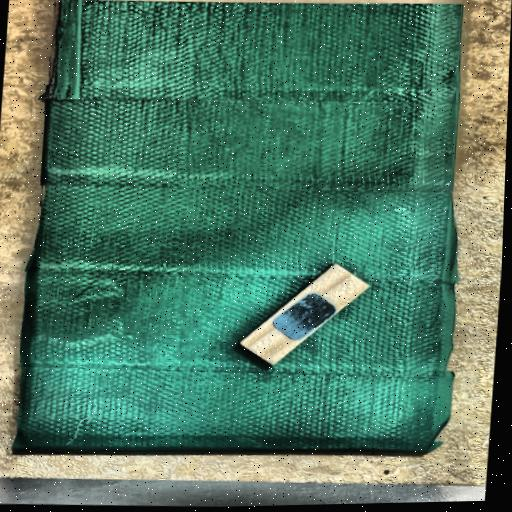objects: (239, 256, 369, 373)
